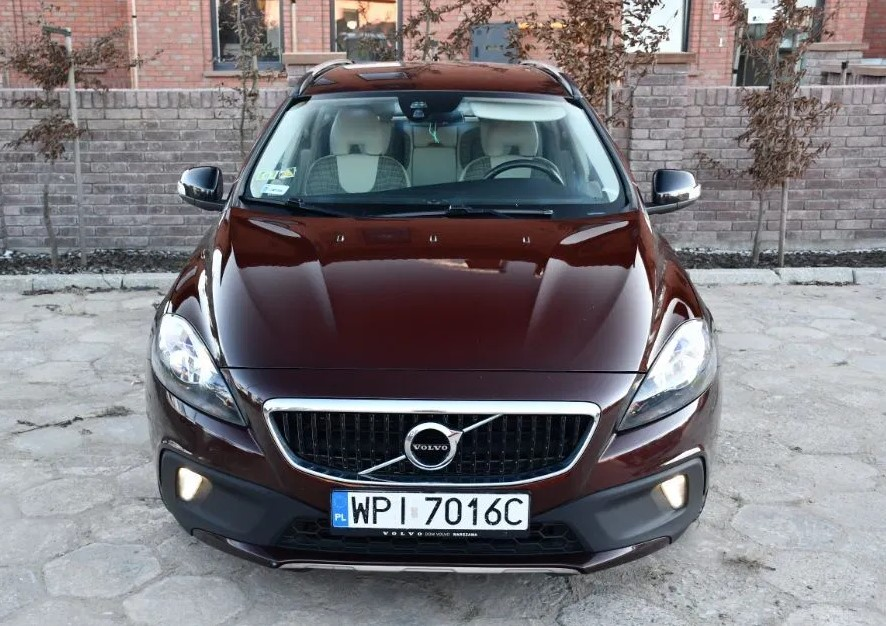number_plate: (315, 481, 541, 541)
